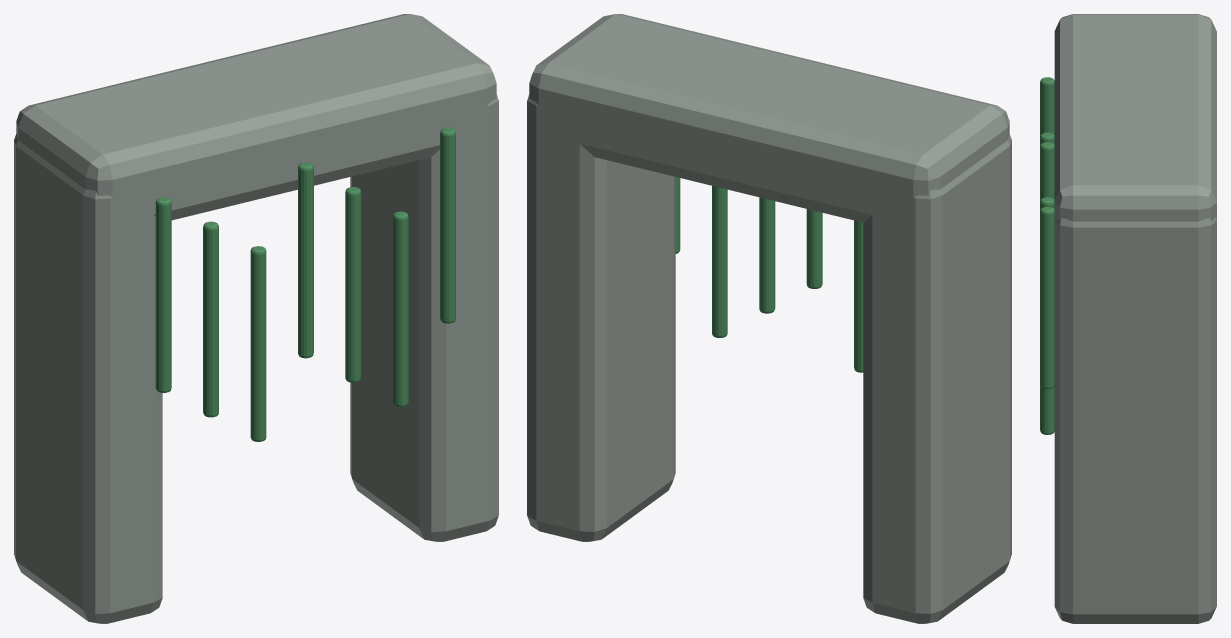
Rendered from Sanctuary-Vine-Arch.glb.
3 views of the same model, side by side, from view 1: azimuth 30°, elevation 25°; view 2: azimuth 150°, elevation 25°; view 3: azimuth 270°, elevation 25° (orthographic). The views are drawn at different scales.
Visible parts, largest first — view 1: Vine_Arch_L.001, Vine_Arch_T.001, Vine_Arch_R.001, Hanging_Vine.012, Hanging_Vine.007, Hanging_Vine.009, Hanging_Vine.011, Hanging_Vine.008, Hanging_Vine.010, Hanging_Vine.013; view 2: Vine_Arch_L.001, Vine_Arch_T.001, Vine_Arch_R.001, Hanging_Vine.012, Hanging_Vine.011, Hanging_Vine.009, Hanging_Vine.010; view 3: Vine_Arch_R.001, Vine_Arch_T.001, Hanging_Vine.013, Hanging_Vine.010, Hanging_Vine.007, Hanging_Vine.012.
Boxes of the visible parts, left/top/right/bottom form: Vine_Arch_L.001: left=14, top=133, right=162, bottom=623; Vine_Arch_T.001: left=16, top=14, right=496, bottom=222; Vine_Arch_R.001: left=350, top=94, right=498, bottom=541; Hanging_Vine.012: left=392, top=211, right=408, bottom=407; Hanging_Vine.007: left=155, top=197, right=171, bottom=392; Hanging_Vine.009: left=250, top=246, right=266, bottom=441; Hanging_Vine.011: left=345, top=187, right=361, bottom=382; Hanging_Vine.008: left=203, top=221, right=218, bottom=417; Hanging_Vine.010: left=298, top=162, right=313, bottom=358; Hanging_Vine.013: left=440, top=127, right=455, bottom=323; Vine_Arch_L.001: left=863, top=133, right=1011, bottom=623; Vine_Arch_T.001: left=529, top=14, right=1009, bottom=222; Vine_Arch_R.001: left=527, top=94, right=675, bottom=541; Hanging_Vine.012: left=712, top=186, right=727, bottom=337; Hanging_Vine.011: left=759, top=197, right=775, bottom=313; Hanging_Vine.009: left=854, top=220, right=863, bottom=372; Hanging_Vine.010: left=806, top=209, right=822, bottom=288; Vine_Arch_R.001: left=1054, top=218, right=1216, bottom=623; Vine_Arch_T.001: left=1054, top=14, right=1216, bottom=221; Hanging_Vine.013: left=1040, top=206, right=1054, bottom=389; Hanging_Vine.010: left=1040, top=142, right=1054, bottom=201; Hanging_Vine.007: left=1040, top=77, right=1054, bottom=136; Hanging_Vine.012: left=1040, top=385, right=1054, bottom=434.
Bounding box in the file's own units: 1.92 × 2.08 × 0.762.
